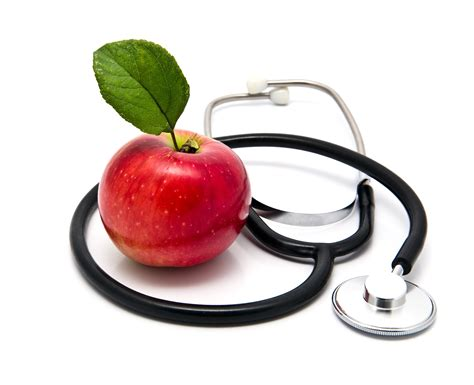apple: (92, 124, 257, 271)
